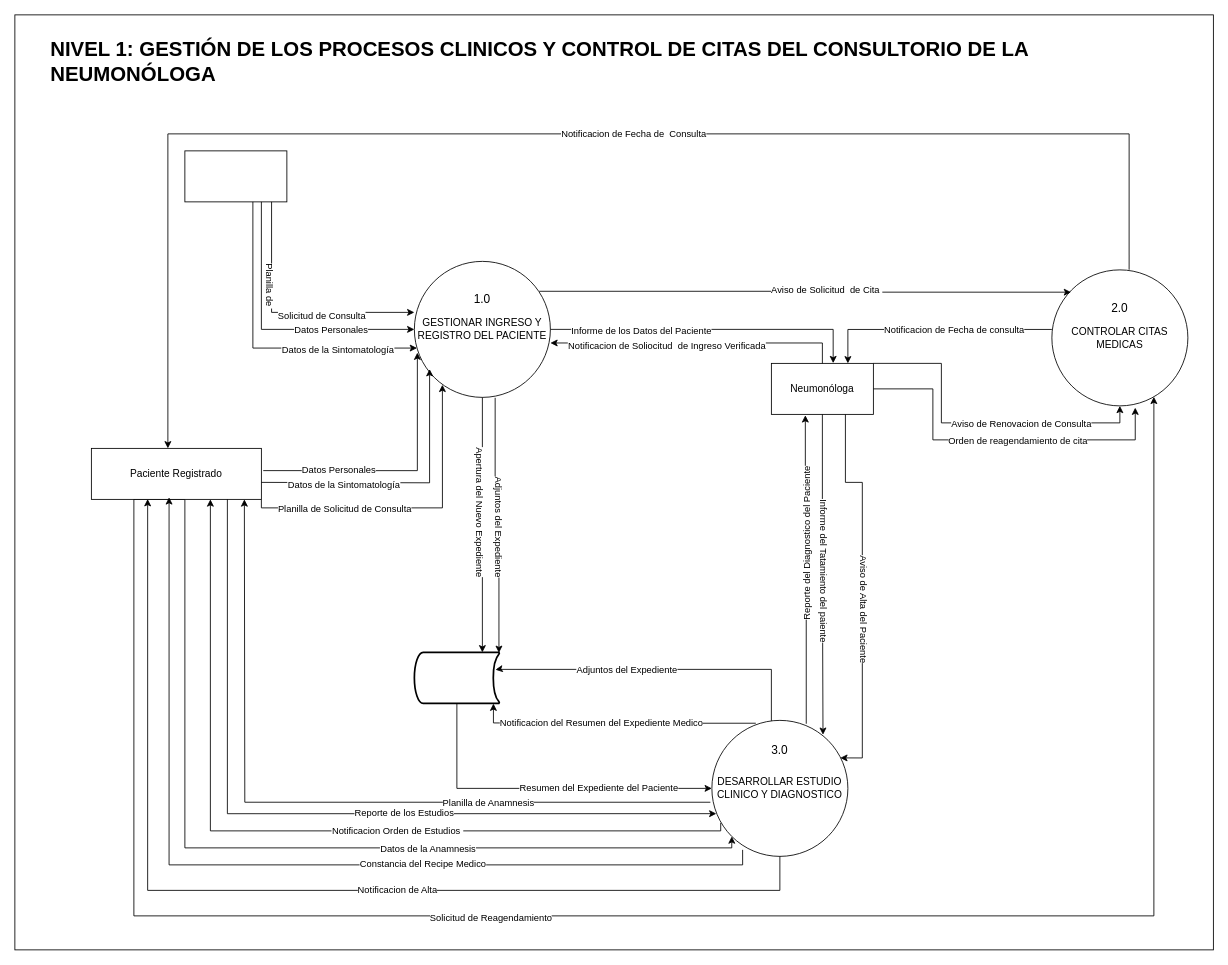
This 1228x965 diagram has some shape labels left out. Here are the shapes that lost their labels. From the top down, the centre of each, then its label:
At (235,176): "Paciente Nuevo".
At (456,677): "Memorias y Archivos Fisicos del Paciente".
